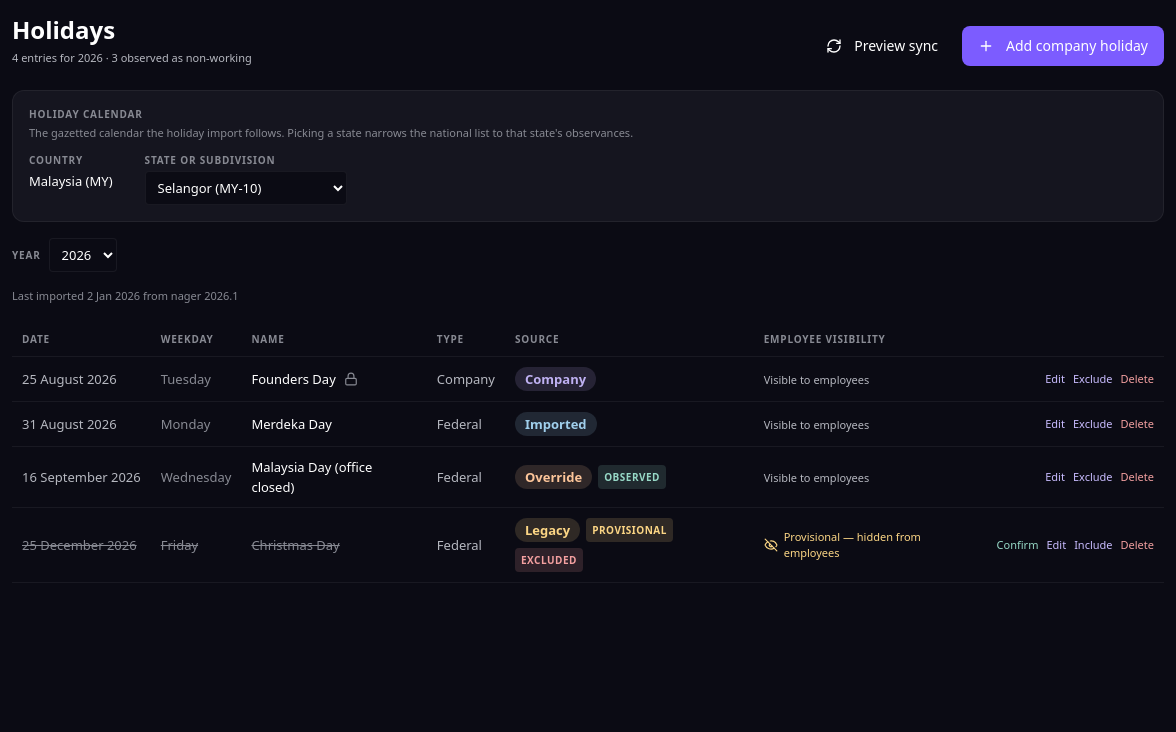
Test: AdminHolidaysPage holiday-calendar settings › renders the backend's 400 message inline and reverts the field
This screenshot has width=1176, height=732.
Select "W.P. Kuala Lumpur (MY-14)" in the dropdown labelled "State or subdivision" at [246, 188], box [145, 171, 347, 205]
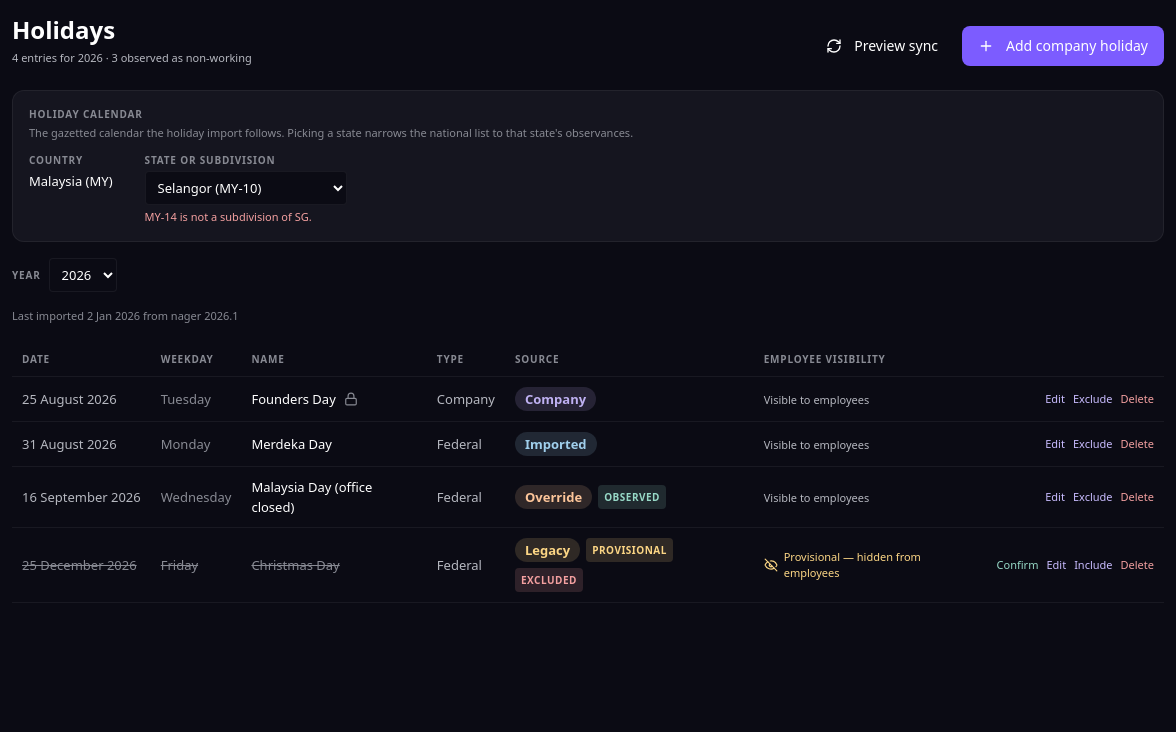
Expected: the message reads "MY-14 is not a subdivision of SG.", [145, 209, 312, 224]
